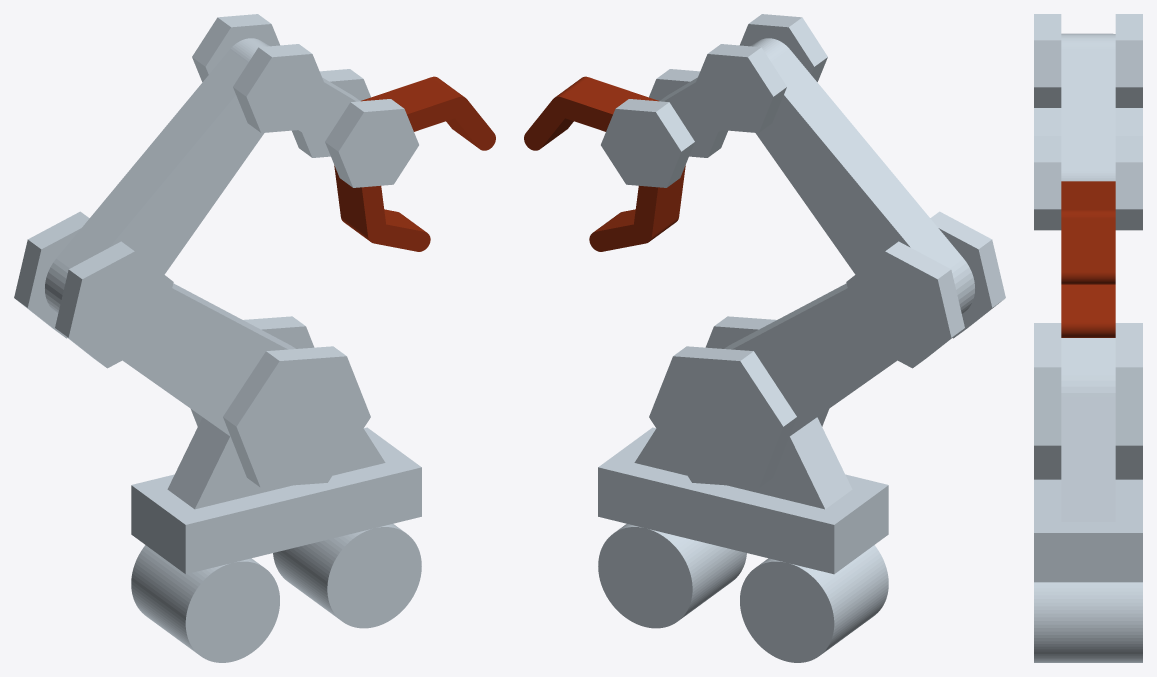
The model's file is bot_colada.dae.
3 views of the same model, side by side, from view 1: azimuth 30°, elevation 25°; view 2: azimuth 150°, elevation 25°; view 3: azimuth 270°, elevation 25° (orthographic).
Parts seen in each view (by area): view 1: 5d8d27f7e329f31576bae21d (×8); view 2: 5d8d27f7e329f31576bae21d (×8); view 3: 5d8d27f7e329f31576bae21d (×7).
Boxes of the visible parts, bbox=[...] form: 5d8d27f7e329f31576bae21d (×8): bbox=[14, 14, 495, 662]; 5d8d27f7e329f31576bae21d (×8): bbox=[524, 14, 1005, 662]; 5d8d27f7e329f31576bae21d (×7): bbox=[1034, 14, 1142, 662].
Bounding box in the file's own units: 0.0934 × 0.02 × 0.1204.
